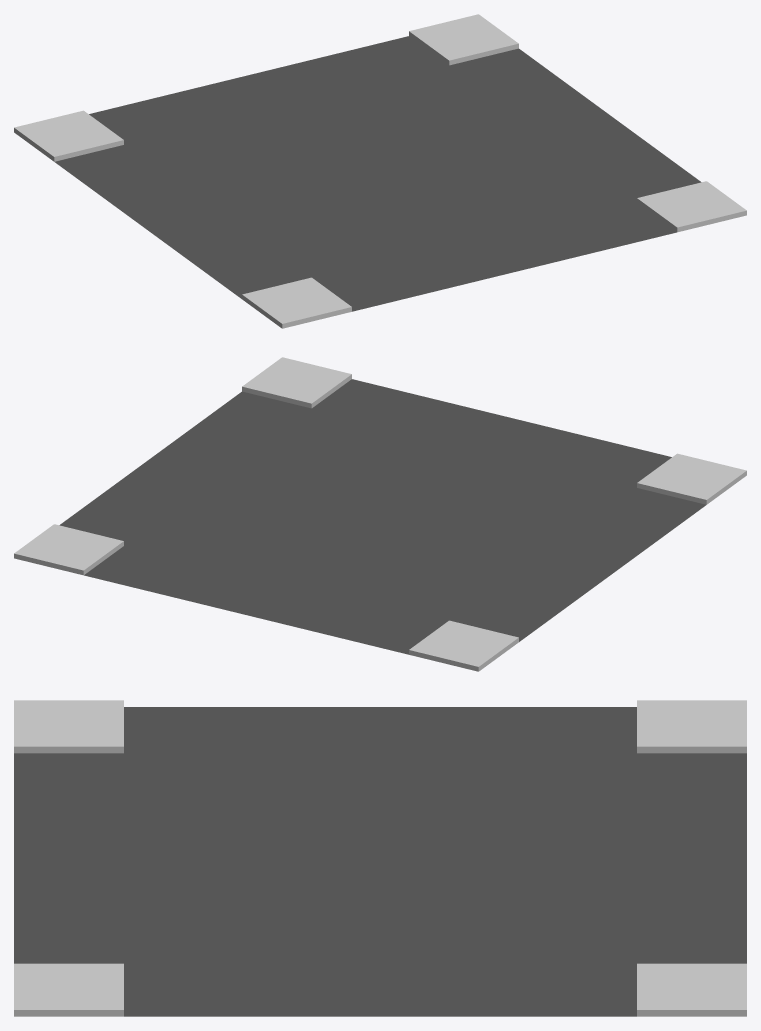
File: road-intersection-02.glb
The picture shows the model from 3 angles, top to bottom: view 1: azimuth 30°, elevation 25°; view 2: azimuth 150°, elevation 25°; view 3: azimuth 270°, elevation 25°; orthographic projection. The views are drawn at different scales.
Parts seen in each view (by area): view 1: model; view 2: model; view 3: model.
Boxes of the visible parts, box(x1,y1,x2,y2) form: model: box(14, 14, 746, 328); model: box(14, 357, 746, 671); model: box(14, 700, 746, 1016).
Bounding box in the file's own units: 20 × 0.2 × 20.
1 material, 1 textured.
